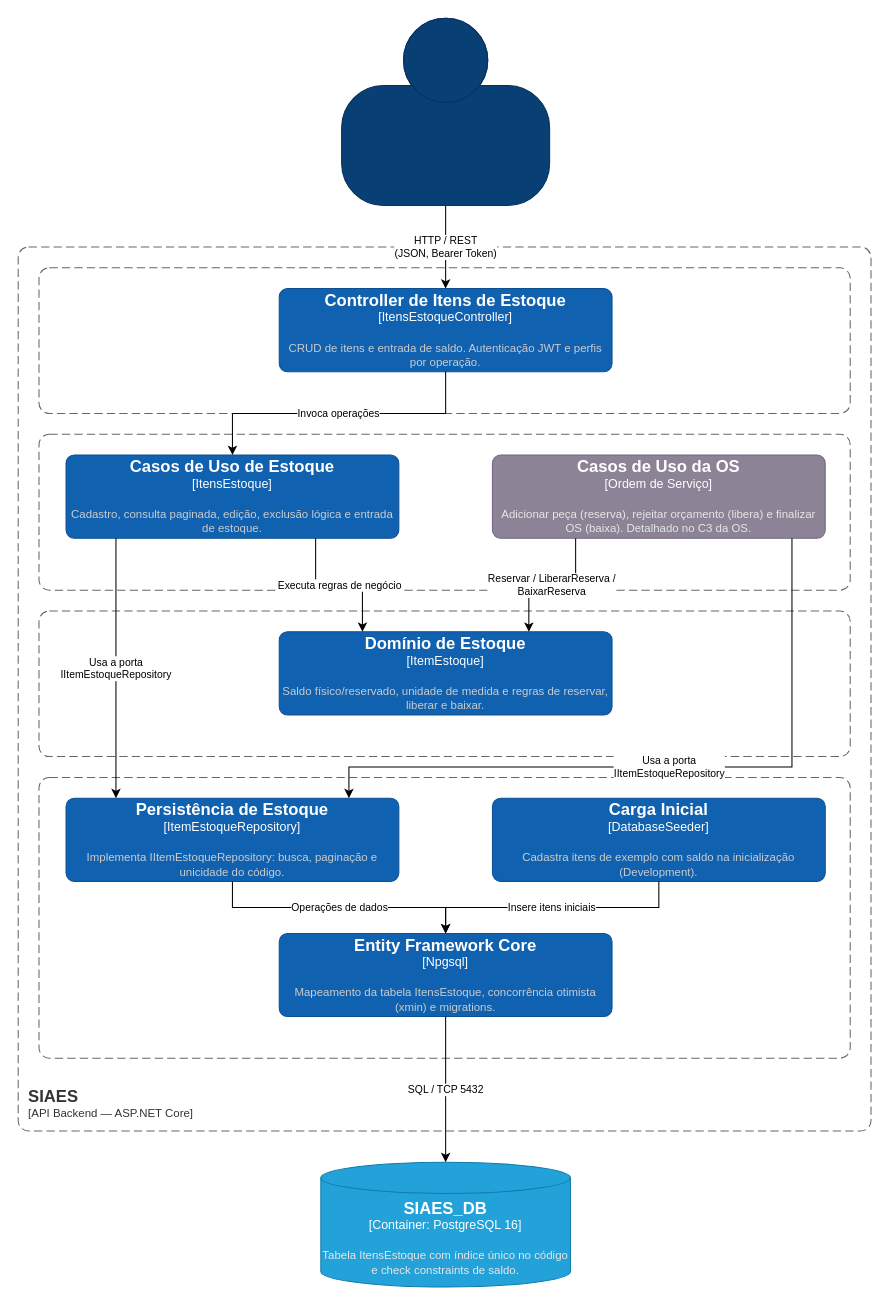
Some shapes in this 889 by 1305 pixel diagram are drawn without their labels. The box of each missing label's shape, as (x1, y1, x2, y2) in pixels:
Camada Aplicação [Container]: (38, 433, 850, 590)
Camada Apresentação [Container]: (38, 267, 850, 413)
Camada Domínio [Container]: (38, 610, 850, 757)
Camada Infraestrutura [Container]: (38, 776, 850, 1058)
Usuários da Oficina [Persons] Administrador, Gerente e Operacional: (341, 17, 550, 205)
